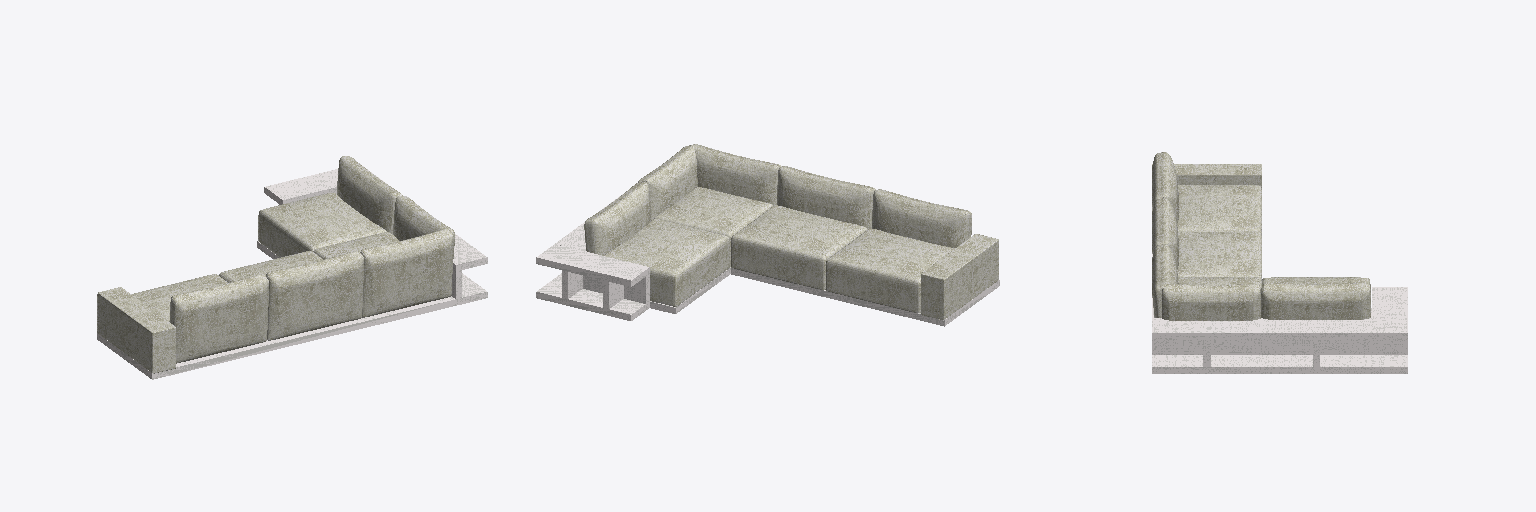
3 renders of one model, left to right at view 1: azimuth 30°, elevation 25°; view 2: azimuth 150°, elevation 25°; view 3: azimuth 270°, elevation 25°, orthographic.
Visible parts, largest first — view 1: mesh32_mesh32-geometry, mesh74_mesh74-geometry, mesh67_mesh67-geometry, mesh5_mesh5-geometry, mesh1_mesh1-geometry, mesh75_mesh75-geometry; view 2: mesh74_mesh74-geometry, mesh32_mesh32-geometry, mesh1_mesh1-geometry, mesh67_mesh67-geometry, mesh75_mesh75-geometry, mesh5_mesh5-geometry, mesh2_mesh2-geometry, mesh4_mesh4-geometry; view 3: mesh32_mesh32-geometry, mesh1_mesh1-geometry, mesh74_mesh74-geometry, mesh3_mesh3-geometry, mesh67_mesh67-geometry, mesh2_mesh2-geometry, mesh75_mesh75-geometry.
Part boxes in pixels (x1,y1,x2,y2): mesh32_mesh32-geometry: (169, 156, 454, 363); mesh74_mesh74-geometry: (132, 193, 386, 321); mesh67_mesh67-geometry: (98, 287, 175, 373); mesh5_mesh5-geometry: (97, 241, 455, 379); mesh1_mesh1-geometry: (264, 166, 487, 305); mesh75_mesh75-geometry: (313, 232, 398, 259); mesh74_mesh74-geometry: (604, 205, 954, 312); mesh32_mesh32-geometry: (584, 144, 971, 255); mesh1_mesh1-geometry: (536, 194, 649, 320); mesh67_mesh67-geometry: (921, 234, 998, 319); mesh75_mesh75-geometry: (654, 187, 772, 266); mesh5_mesh5-geometry: (650, 267, 999, 326); mesh2_mesh2-geometry: (562, 270, 623, 308); mesh4_mesh4-geometry: (583, 274, 649, 303); mesh32_mesh32-geometry: (1152, 152, 1370, 320); mesh1_mesh1-geometry: (1152, 287, 1407, 373); mesh74_mesh74-geometry: (1177, 185, 1370, 288); mesh3_mesh3-geometry: (1152, 340, 1371, 354); mesh67_mesh67-geometry: (1152, 164, 1261, 210); mesh2_mesh2-geometry: (1203, 340, 1407, 366); mesh75_mesh75-geometry: (1178, 277, 1261, 288).
Bounding box in the file's own units: 0.8217 × 0.17 × 0.544.
4 materials, 1 textured.